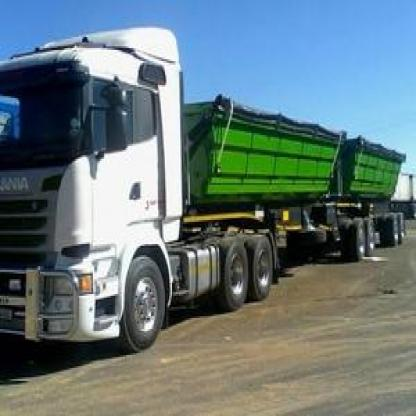dump_truck: (0, 20, 415, 355)
